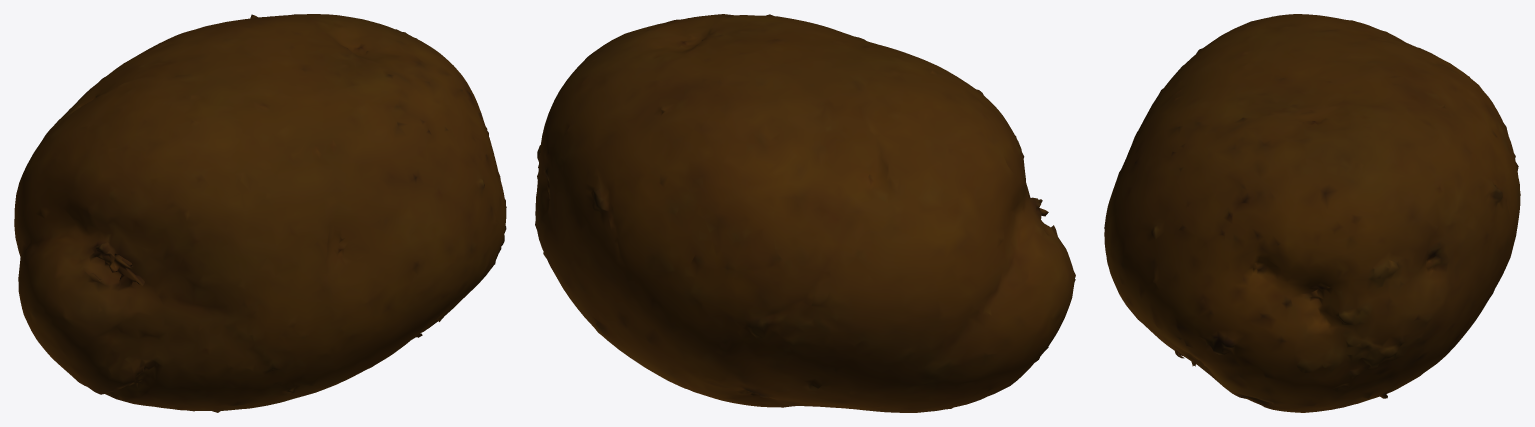
The model's file is vegi4.fbx.
3 renders of one model, left to right at view 1: azimuth 30°, elevation 25°; view 2: azimuth 150°, elevation 25°; view 3: azimuth 270°, elevation 25°, orthographic. The views are drawn at different scales.
Parts seen in each view (by area): view 1: Potatoes 1; view 2: Potatoes 1; view 3: Potatoes 1.
Part boxes in pixels (x1,y1,x2,y2): Potatoes 1: [14, 14, 506, 412]; Potatoes 1: [535, 14, 1075, 412]; Potatoes 1: [1104, 14, 1520, 412].
Size of the model in its own units: 250 by 167 by 202.
